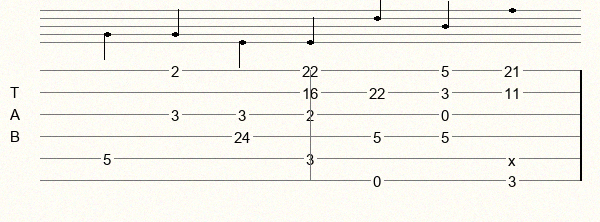0: (373, 173, 385, 188), (441, 107, 453, 122)
11: (504, 85, 524, 100)
16: (302, 85, 322, 100)
2: (171, 63, 183, 78), (306, 107, 318, 122)
21: (504, 63, 524, 78)
22: (302, 63, 322, 78), (369, 85, 389, 100)
24: (234, 129, 254, 144)
3: (171, 107, 183, 122), (238, 107, 250, 122), (306, 151, 318, 166), (441, 85, 453, 100), (508, 173, 520, 188)
5: (103, 151, 115, 166), (373, 129, 385, 144), (441, 129, 453, 144), (441, 63, 453, 78)
x: (508, 152, 520, 164)
